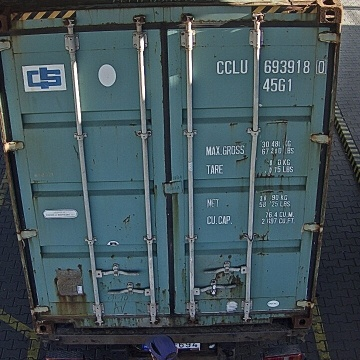serial_id: (217, 59, 326, 73)
